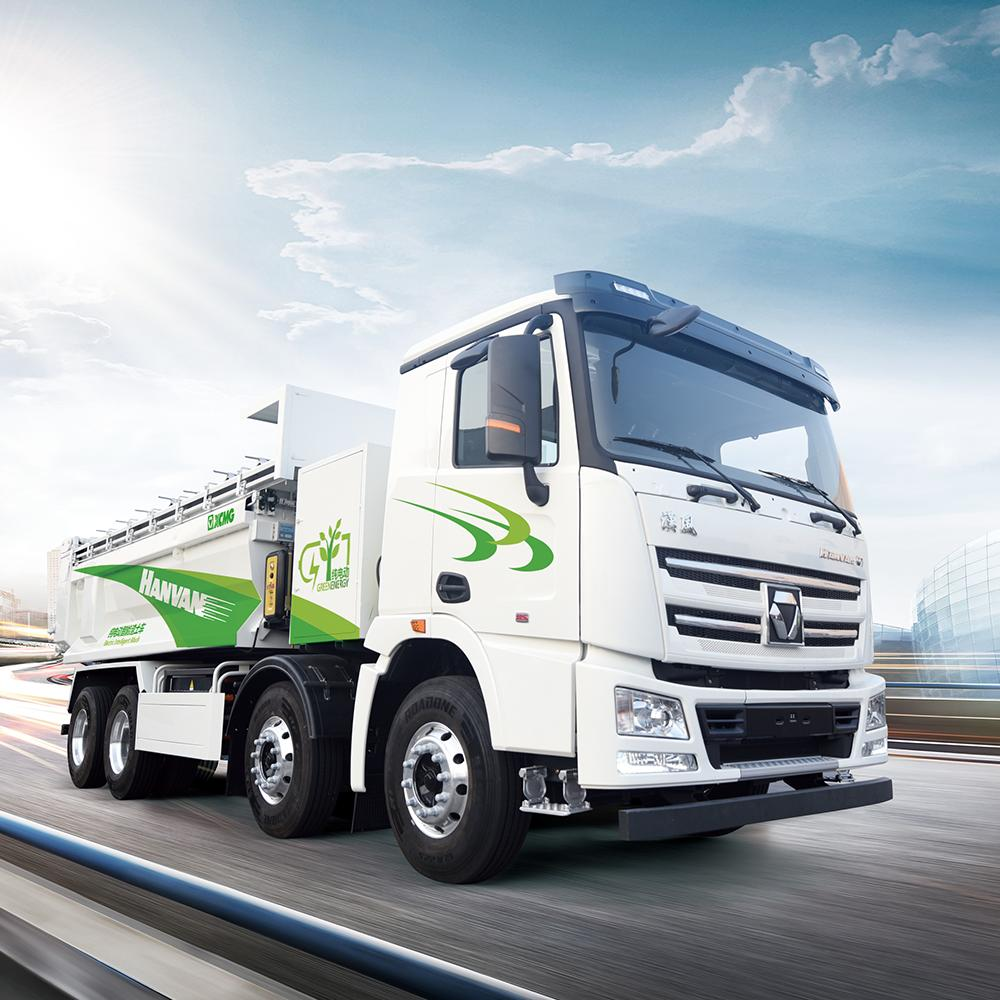truck: (35, 266, 912, 882)
